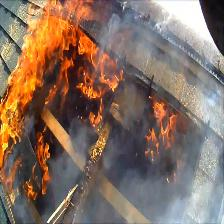fire: (34, 9, 80, 60), (81, 38, 109, 113), (5, 64, 36, 108), (1, 112, 19, 149)
